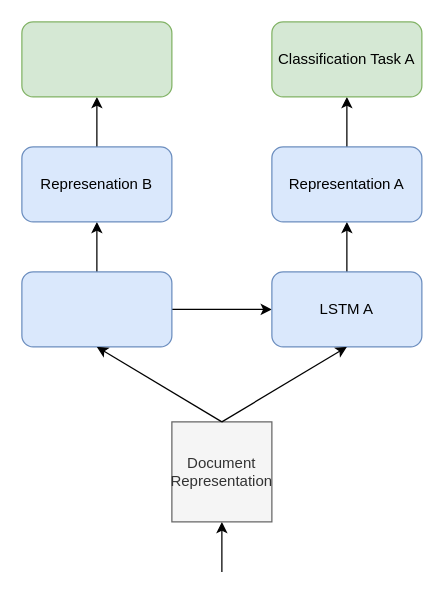
Image size: 444x604. Some labels were removed from this diagram. Here are the shapes that lost their labels. From the top down, the box of each, then its label:
(21, 21, 172, 97): Classification Task B
(21, 271, 172, 347): LSTM B
